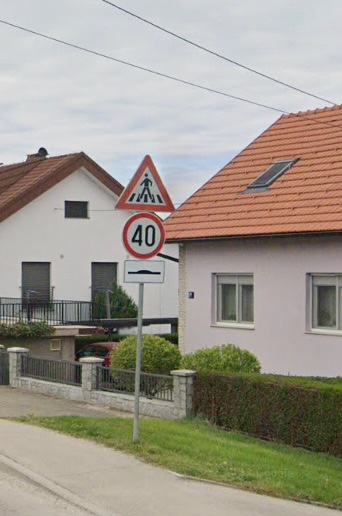Ograničenje brzine 40: (123, 212, 165, 259)
Približavanje pješačkom prijelazu: (115, 154, 175, 212)
